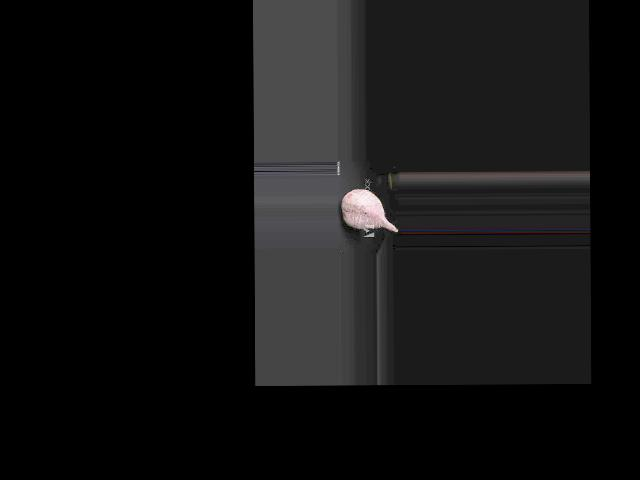beet: (341, 188, 397, 231)
